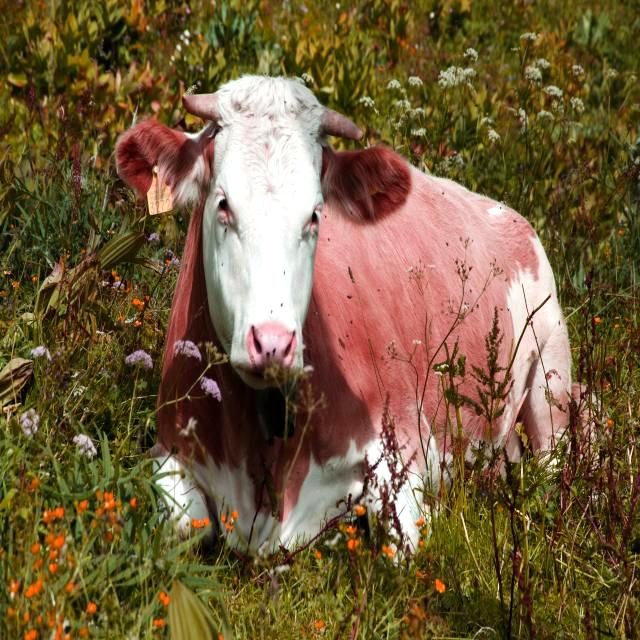COW: (115, 75, 581, 555)
